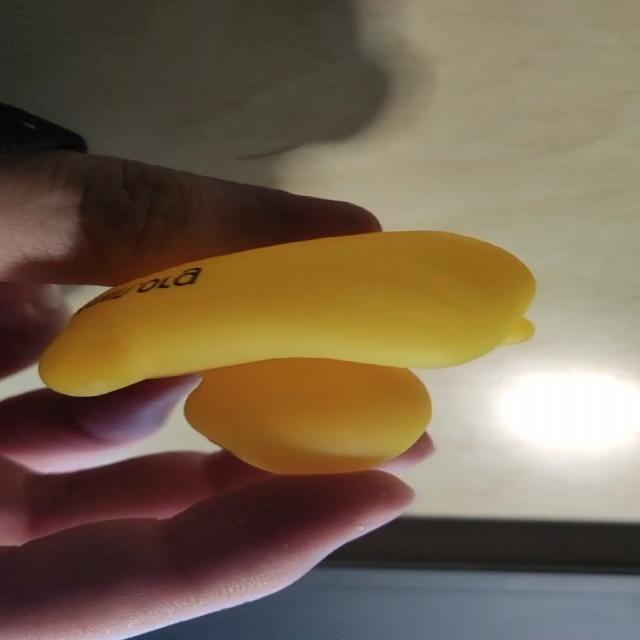rubber-duck: (38, 230, 533, 472)
